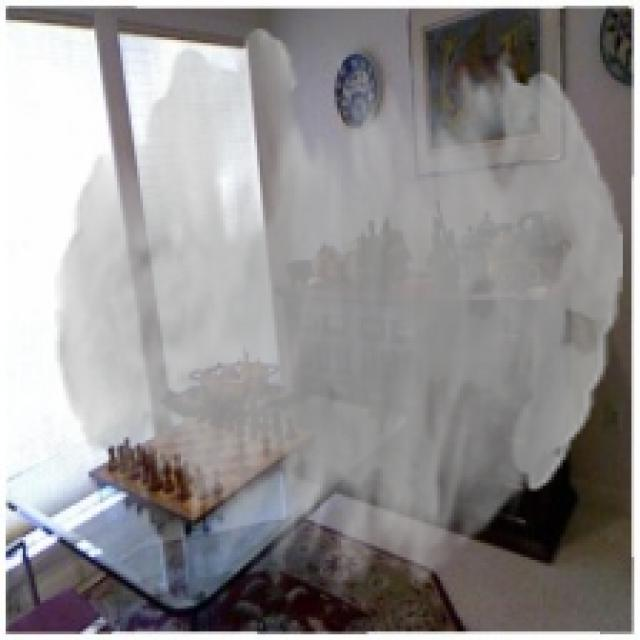smoke: (54, 29, 623, 594)
